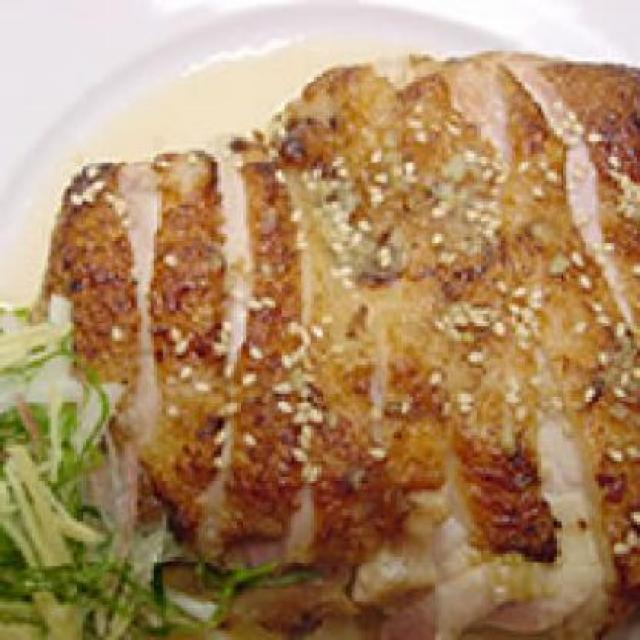Chicken roast: (86, 89, 637, 557)
